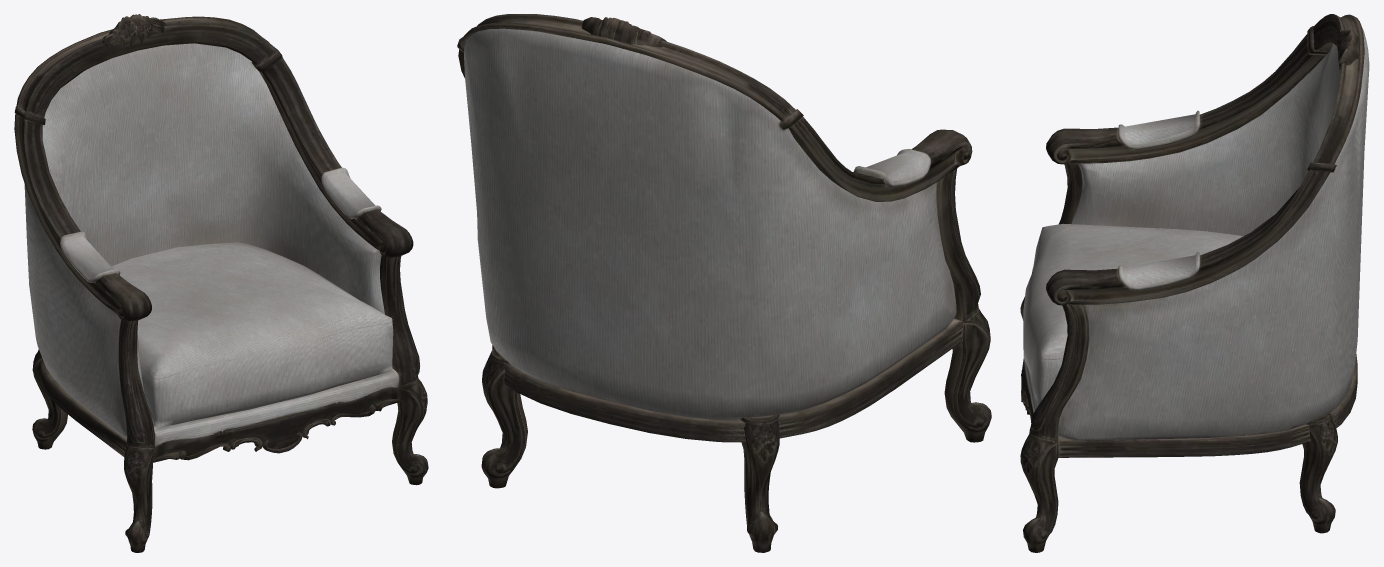
The model's file is ArmChair_01.glb.
The picture shows the model from 3 angles, left to right: view 1: azimuth 30°, elevation 25°; view 2: azimuth 150°, elevation 25°; view 3: azimuth 270°, elevation 25°; orthographic projection. The views are drawn at different scales.
Parts seen in each view (by area): view 1: ArmChair_01; view 2: ArmChair_01; view 3: ArmChair_01.
Boxes of the visible parts, x1,y1,x2,y2 form: ArmChair_01: (14, 14, 428, 552); ArmChair_01: (457, 14, 991, 552); ArmChair_01: (1020, 14, 1369, 552).
Bounding box in the file's own units: 0.8484 × 1.06 × 0.7658.
1 material, 1 textured.
